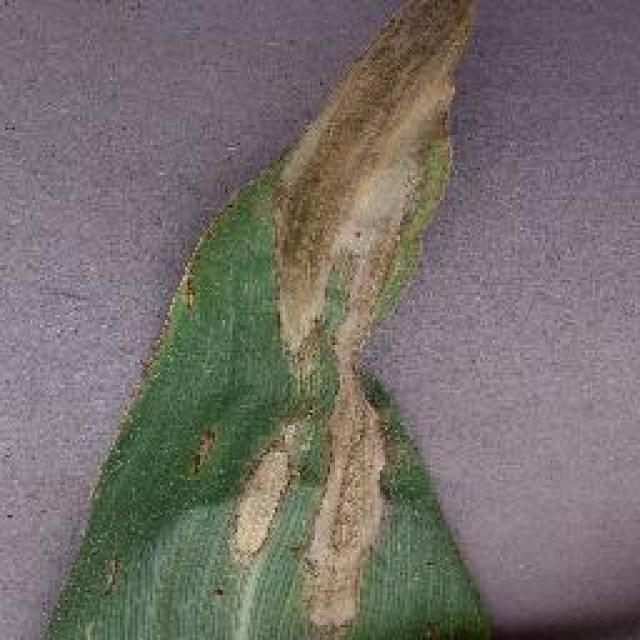Corn___Northern_Leaf_Blight: (10, 2, 635, 640)
